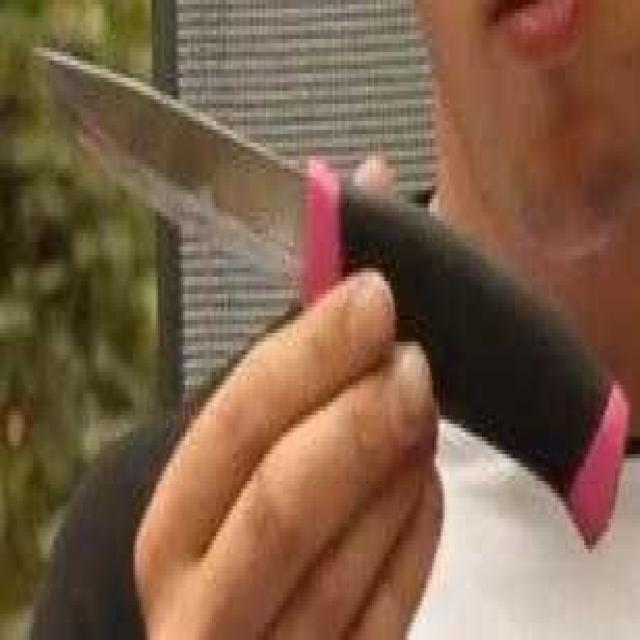Knife: (35, 42, 640, 587)
